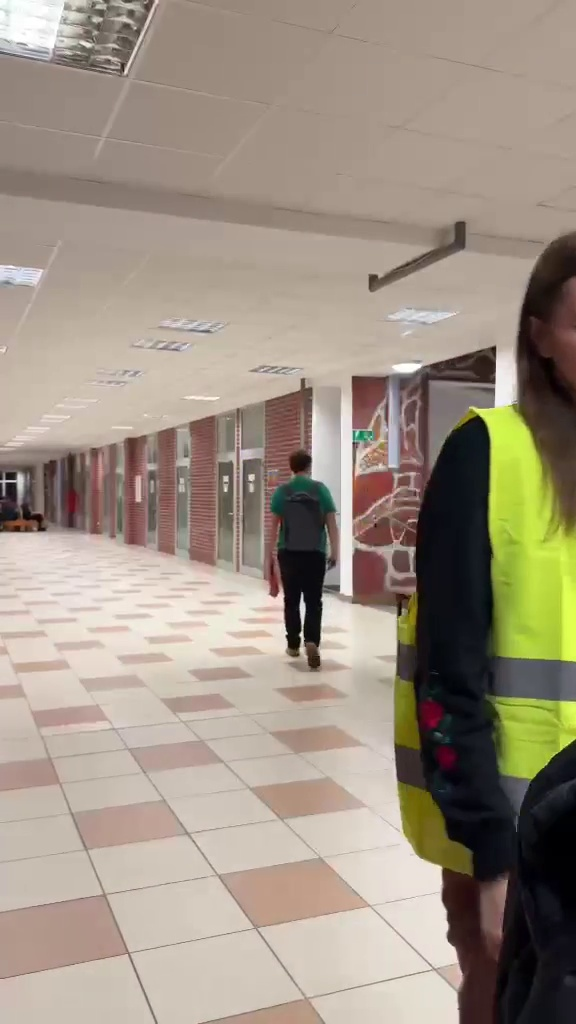no vest: (258, 453, 339, 667)
vest: (412, 231, 576, 996)
